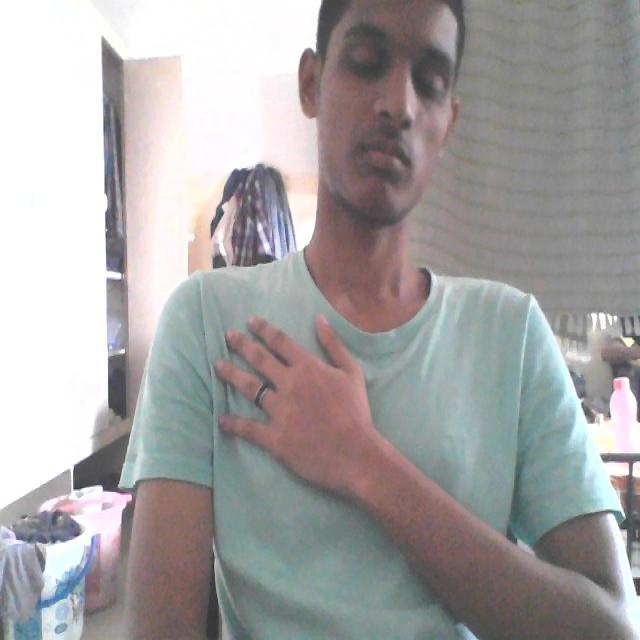Please: (221, 288, 429, 518)
